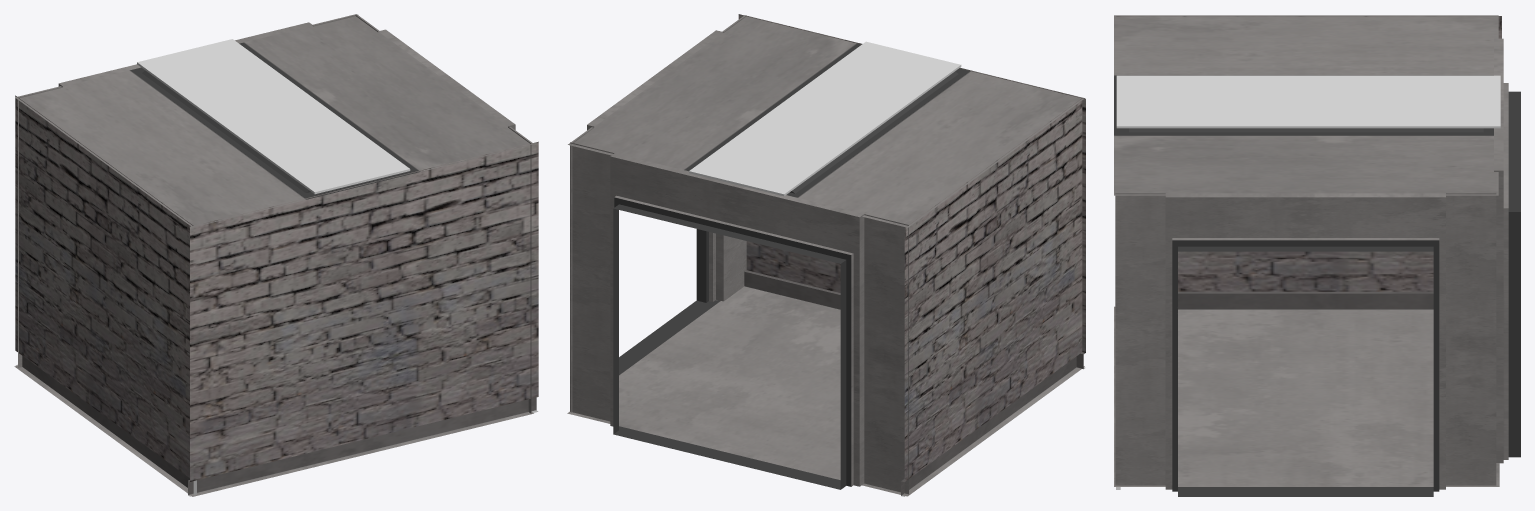
The model's file is hallway_corner14.fbx.
3 views of the same model, side by side, from view 1: azimuth 30°, elevation 25°; view 2: azimuth 150°, elevation 25°; view 3: azimuth 270°, elevation 25° (orthographic). The views are drawn at different scales.
Parts seen in each view (by area): view 1: wall (×2), ciling, light, wall_door_frame (×2), floor; view 2: wall (×2), wall_door_frame (×2), ciling, floor, light; view 3: wall_door_frame (×2), ciling, floor, light, wall.
Part boxes in pixels (x1=…): wall (×2): x1=15, y1=95, x2=538, y2=496; ciling: x1=15, y1=14, x2=533, y2=227; light: x1=137, y1=39, x2=410, y2=194; wall_door_frame (×2): x1=18, y1=14, x2=531, y2=413; floor: x1=14, y1=365, x2=533, y2=496; wall (×2): x1=738, y1=14, x2=1085, y2=496; wall_door_frame (×2): x1=570, y1=15, x2=908, y2=494; ciling: x1=568, y1=15, x2=1084, y2=227; floor: x1=567, y1=286, x2=1084, y2=496; light: x1=689, y1=41, x2=961, y2=196; wall_door_frame (×2): x1=1115, y1=38, x2=1520, y2=496; ciling: x1=1114, y1=15, x2=1498, y2=195; floor: x1=1114, y1=306, x2=1499, y2=486; light: x1=1116, y1=75, x2=1500, y2=128; wall: x1=1116, y1=16, x2=1501, y2=309.
Size of the model in its own units: 33.66 by 24.32 by 30.29.
